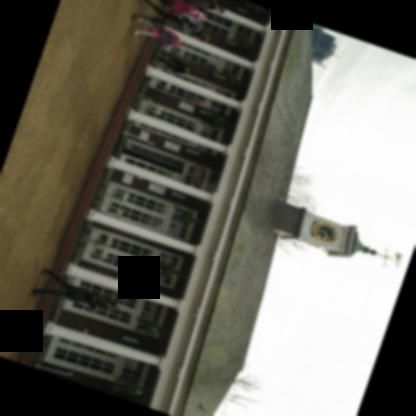backpack: (176, 13, 200, 31), (165, 29, 178, 38), (184, 7, 198, 13)
